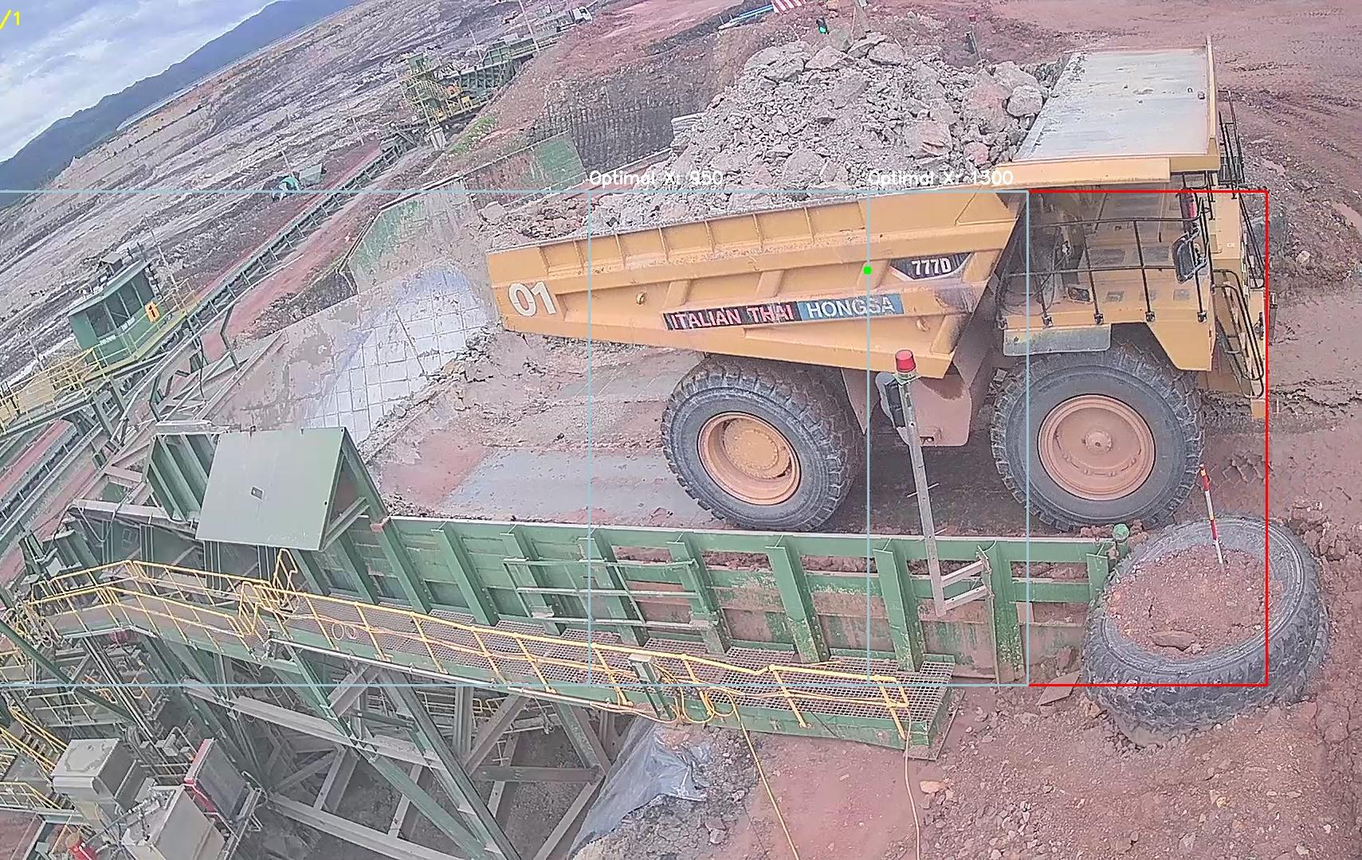company: (657, 288, 920, 337)
full_load: (599, 35, 995, 221)
mining_truck: (485, 22, 1266, 556)
tail_number: (496, 272, 564, 330)
truck_size: (877, 243, 979, 289)
